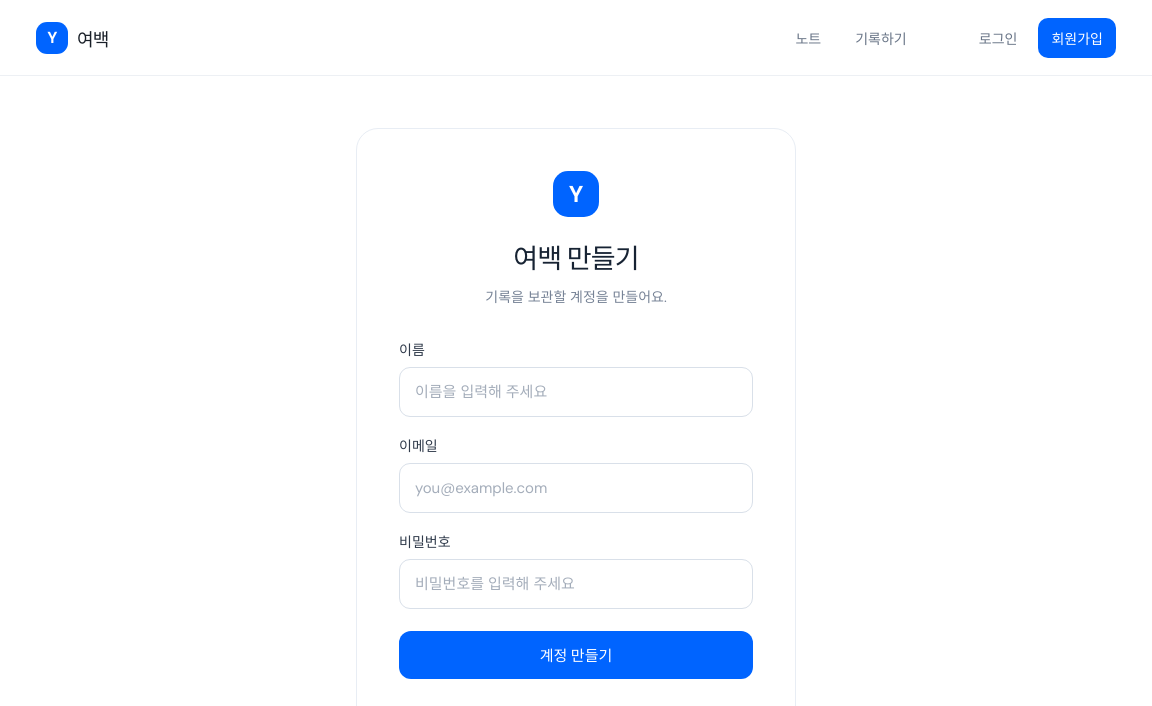
Scenario: 여백 페이지 흐름 › 가입 후 로그인 페이지에 완료 안내를 전달한다
The width and height of the screenshot is (1152, 706).
Type "지민" into the field with id "signup-name" at (576, 392), box [399,367,753,417]
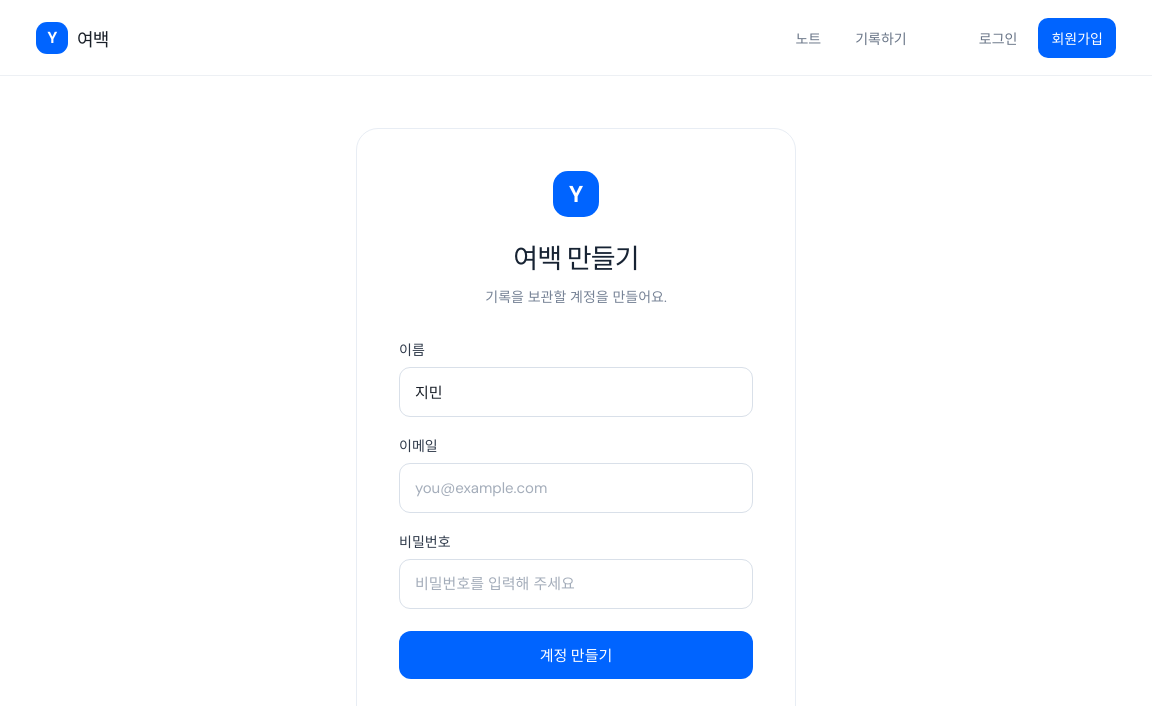
Type "hello@example.com" into the field with id "signup-email" at (576, 488), box [399,463,753,513]
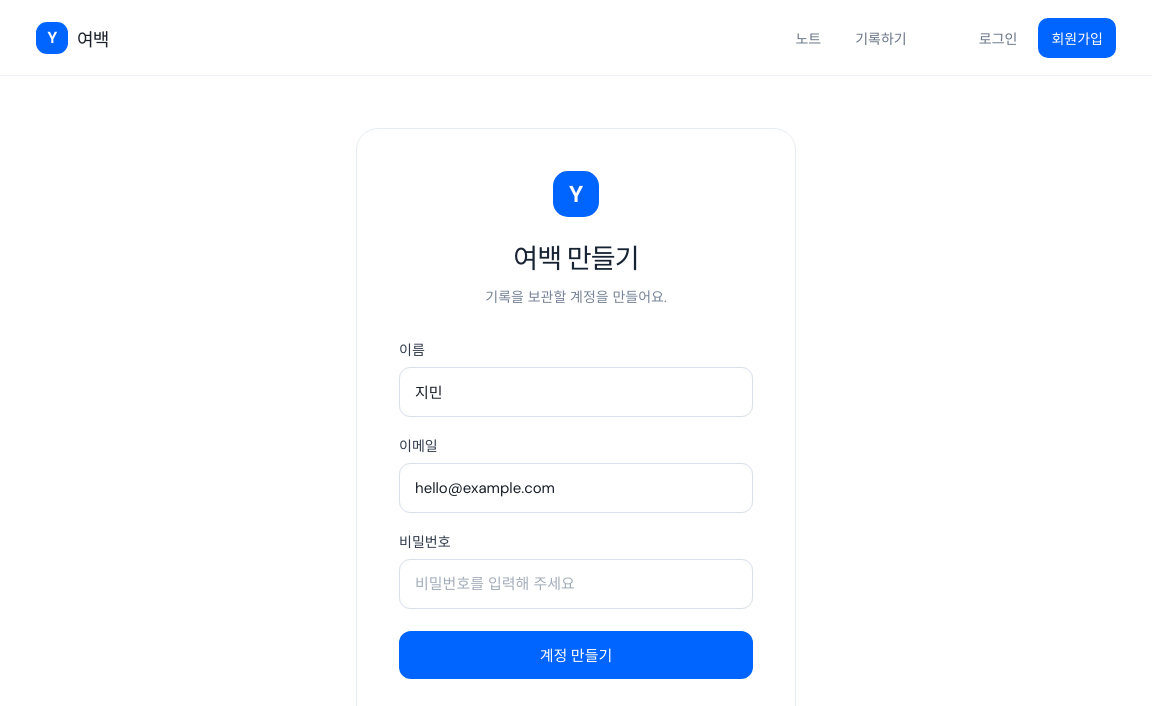
Type "secret" into the password field with id "signup-password" at (576, 584), box [399,559,753,609]
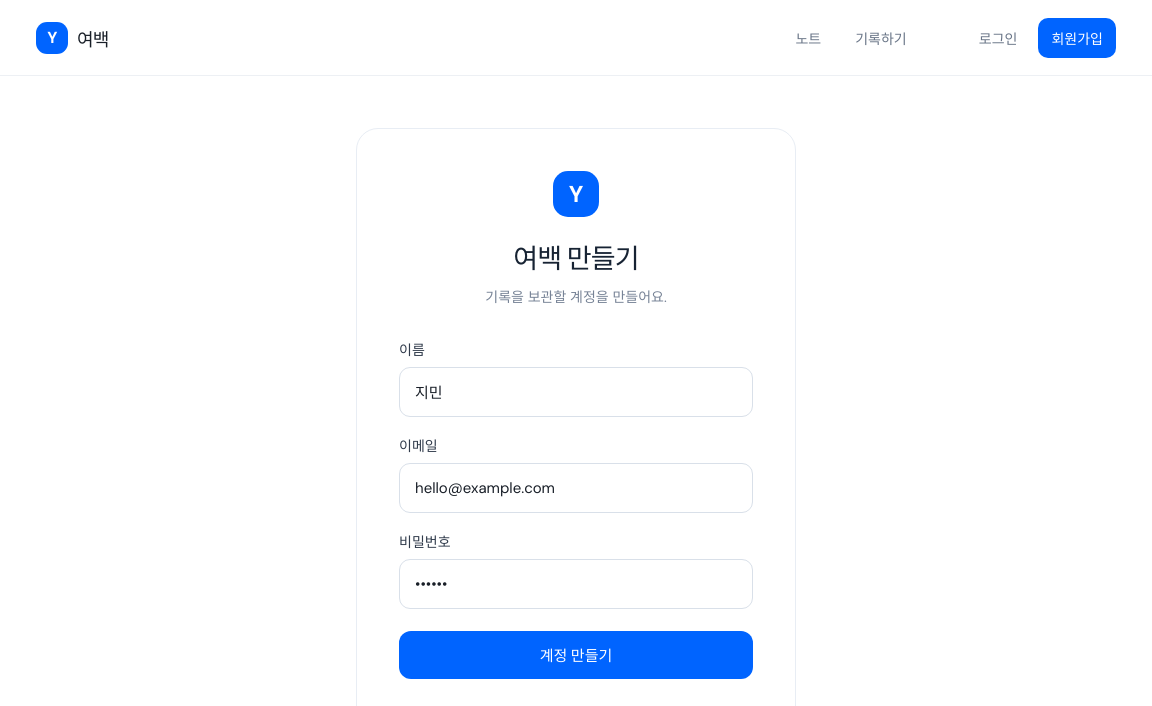
Submit the form, box [399,339,753,679]
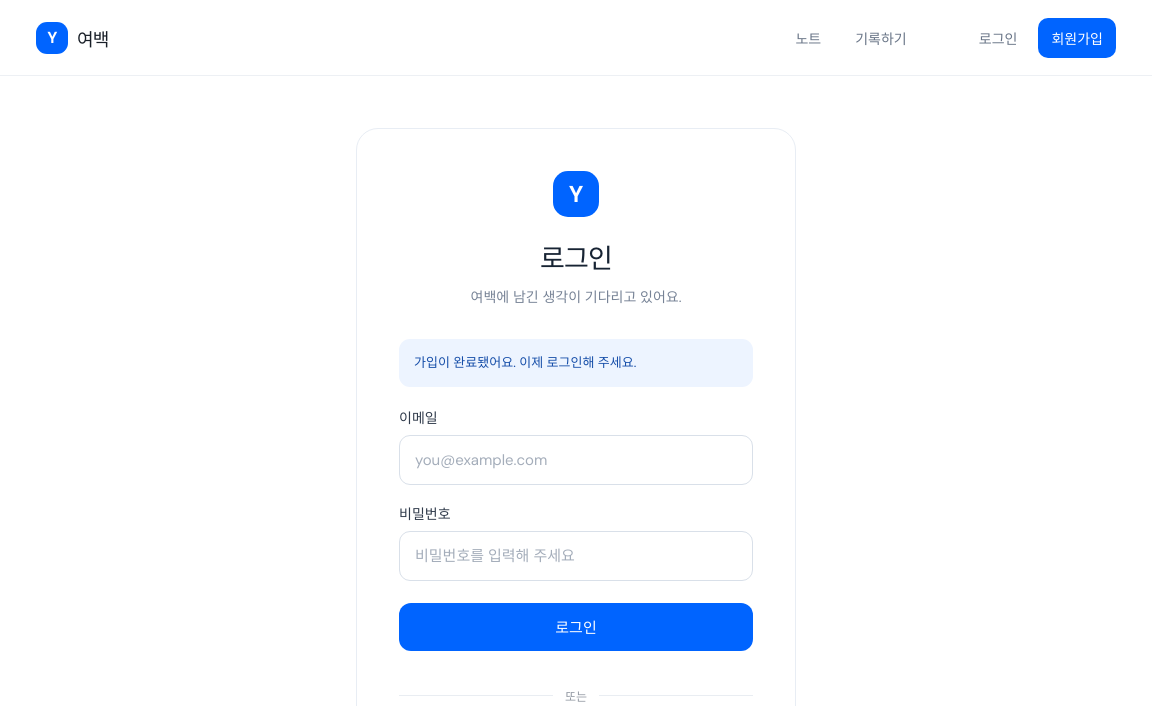
Result: the text "가입이 완료됐어요." is shown at [414,354,636,371]
